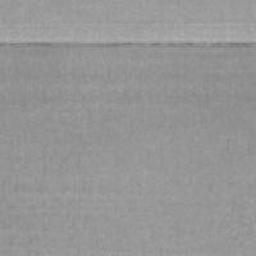Welding line: (0, 41, 256, 50)
